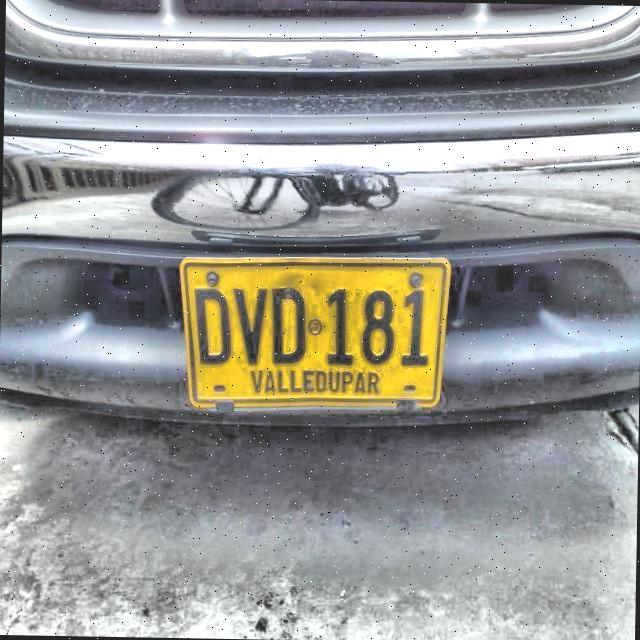plate: (180, 256, 454, 409)
